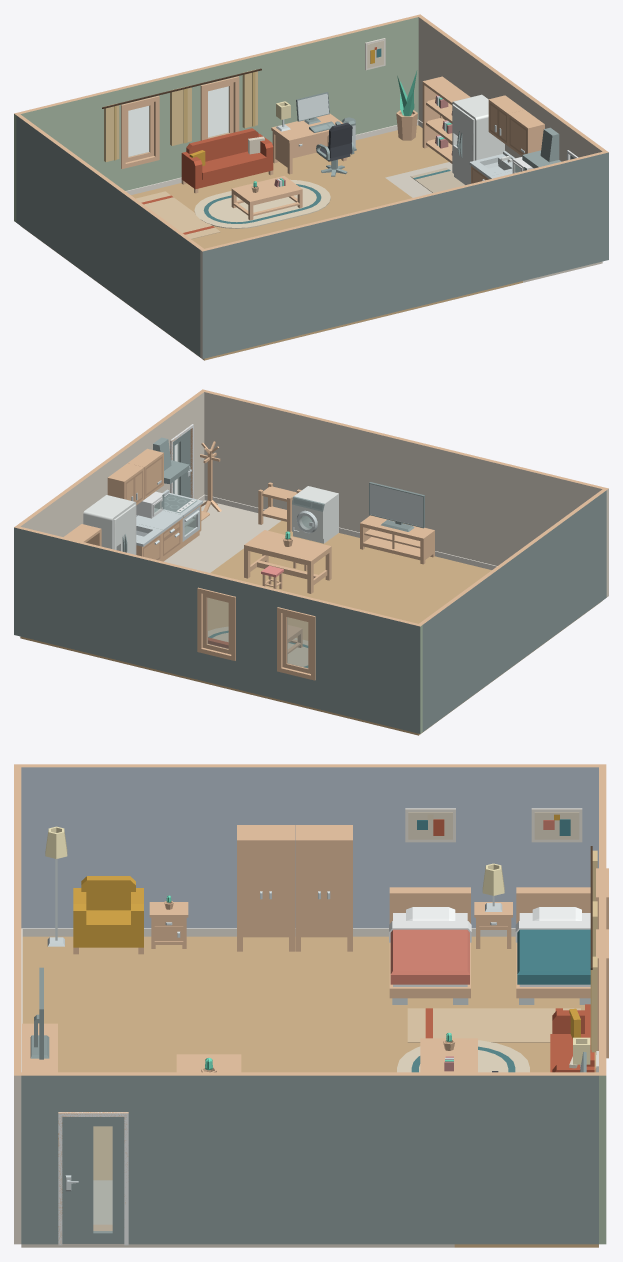
The model's file is room.glb.
The picture shows the model from 3 angles, top to bottom: view 1: azimuth 30°, elevation 25°; view 2: azimuth 150°, elevation 25°; view 3: azimuth 270°, elevation 25°; orthographic projection. The views are drawn at different scales.
Visible parts, largest first — view 1: Walls_Front, Walls_Back, Walls_Left, Floor, Walls_Right, FURN_sofa, FURN_rug, FURN_fridge, DECOR_curtain, FURN_bookshelf, FURN_desk, FURN_coffee_table (+11 smaller); view 2: Walls_Back, Walls_Front, Walls_Left, Floor, Walls_Right, FURN_dining_table, FURN_washer, FURN_fridge, FURN_tv_cabinet, FURN_tv, FURN_stove_cabinet, FURN_drawer_cabinet (+11 smaller); view 3: Walls_Right, Walls_Left, Floor, FURN_bed2, FURN_bed, DOOR_leaf, FURN_wardrobe, FURN_wardrobe_b, FURN_armchair, Walls_Back, DECOR_rug_bed, Walls_Front (+15 smaller).
Boxes of the visible parts, x1,y1,x2,y2 form: Walls_Front: (200, 151, 608, 358); Walls_Back: (14, 14, 421, 222); Walls_Left: (16, 114, 203, 356); Floor: (21, 125, 602, 360); Walls_Right: (418, 16, 606, 161); FURN_sofa: (181, 128, 273, 193); FURN_rug: (194, 179, 330, 228); FURN_fridge: (452, 94, 504, 184); DECOR_curtain: (104, 69, 257, 161); FURN_bookshelf: (422, 76, 470, 163); FURN_desk: (271, 113, 346, 174); FURN_coffee_table: (231, 176, 302, 220); Walls_Back: (14, 526, 422, 733); Walls_Front: (201, 389, 608, 597); Walls_Left: (419, 489, 606, 731); Floor: (20, 500, 601, 735); Walls_Right: (16, 391, 204, 536); FURN_dining_table: (244, 530, 331, 593); FURN_washer: (292, 486, 338, 543); FURN_fridge: (83, 495, 136, 554); FURN_tv_cabinet: (360, 515, 434, 564); FURN_tv: (369, 482, 424, 531); FURN_stove_cabinet: (162, 489, 202, 549); FURN_drawer_cabinet: (136, 510, 182, 561); Walls_Right: (21, 1072, 598, 1244); Walls_Left: (21, 764, 598, 928); Floor: (21, 936, 598, 1247); FURN_bed2: (389, 887, 471, 1004); FURN_bed: (515, 887, 590, 1004); DOOR_leaf: (62, 1117, 124, 1243); FURN_wardrobe: (295, 825, 352, 951); FURN_wardrobe_b: (237, 825, 294, 951); FURN_armchair: (73, 876, 143, 954); Walls_Back: (596, 764, 608, 1244); DECOR_rug_bed: (407, 1008, 580, 1042); Walls_Front: (14, 764, 21, 1244).
Size of the model in its own units: 10.26 by 2.68 by 8.24.
